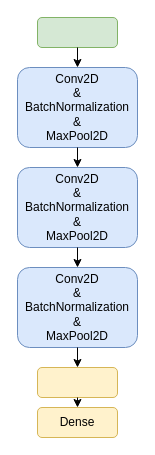
The diagram is 155 pixels wide and 455 high, and some of its shapes have lost their labels. Here are the shapes that lost their labels. From the top down, the centre of each, then its label:
At point 77,32: "Inputs".
At point 77,382: "Flatten".
